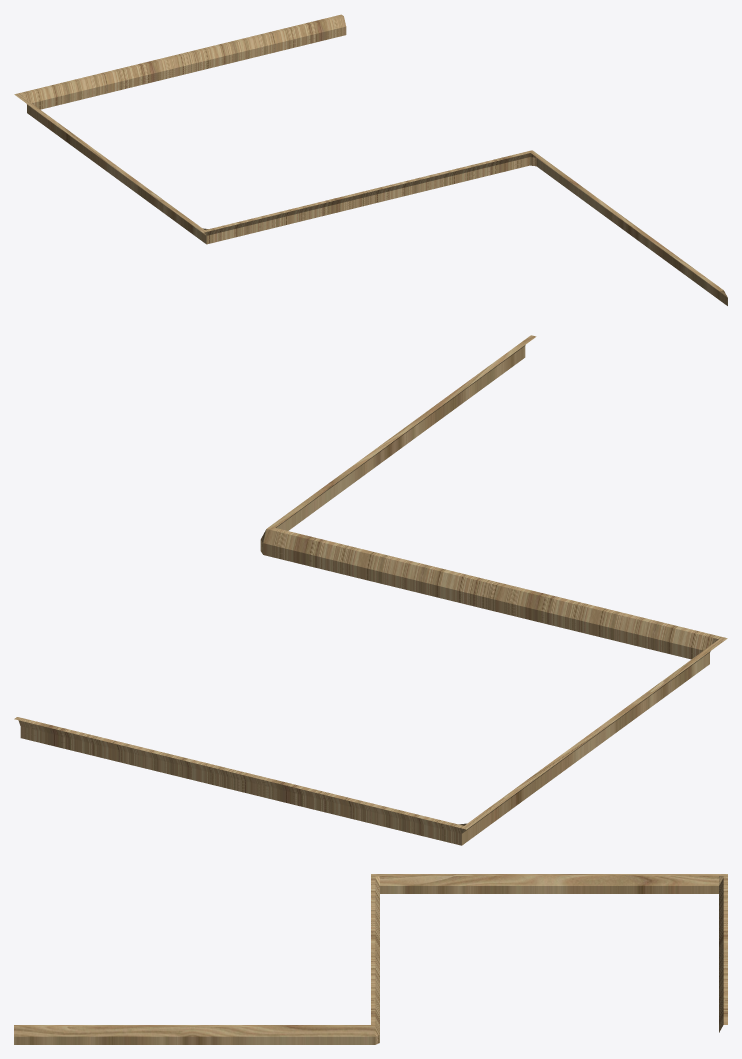
Rendered from SkirtingBoardGroundIndent002.FBX.
The picture shows the model from 3 angles, top to bottom: view 1: azimuth 30°, elevation 25°; view 2: azimuth 150°, elevation 25°; view 3: azimuth 270°, elevation 25°; orthographic projection. The views are drawn at different scales.
Parts seen in each view (by area): view 1: SkirtingBoardGroundIndent002; view 2: SkirtingBoardGroundIndent002; view 3: SkirtingBoardGroundIndent002.
Boxes of the visible parts, box(x1,y1,x2,y2) form: SkirtingBoardGroundIndent002: box(14, 14, 727, 305); SkirtingBoardGroundIndent002: box(14, 335, 727, 845); SkirtingBoardGroundIndent002: box(14, 874, 727, 1044).
Size of the model in its own units: 205 by 10 by 400.
